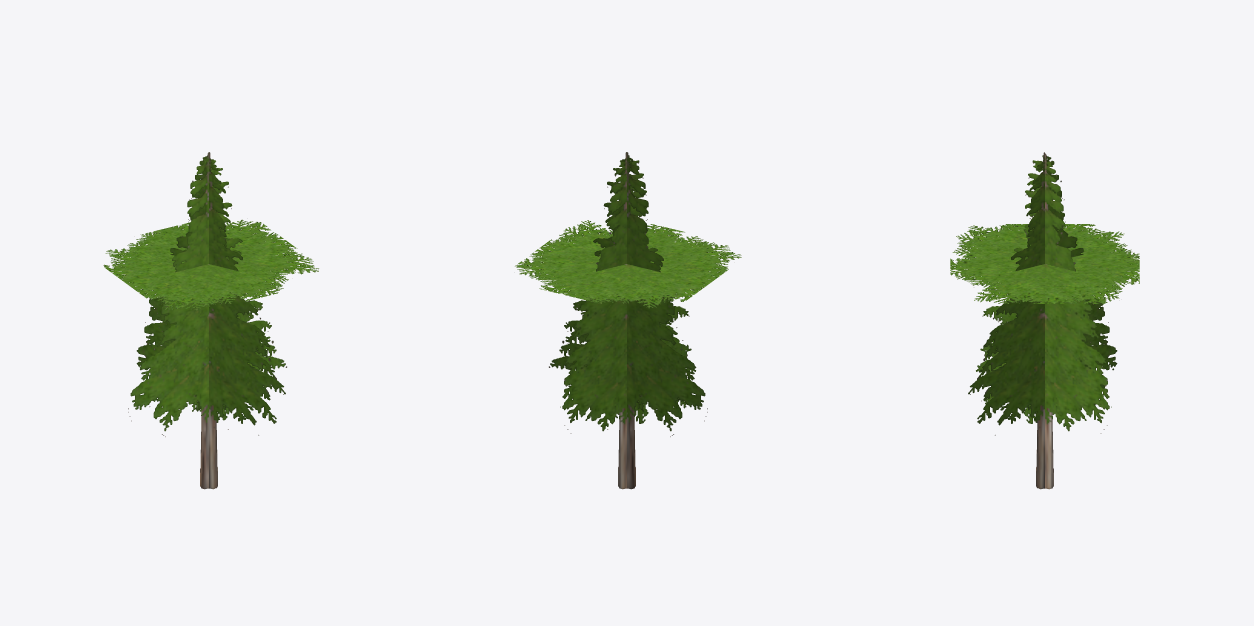
Rendered from tree_conifer_01_far.glb.
The picture shows the model from 3 angles, left to right: view 1: azimuth 30°, elevation 25°; view 2: azimuth 150°, elevation 25°; view 3: azimuth 270°, elevation 25°; orthographic projection.
Parts seen in each view (by area): view 1: env; view 2: env; view 3: env.
Part boxes in pixels (box(x1,y1,x2,y2)): env: box(103, 152, 318, 489); env: box(515, 152, 741, 489); env: box(950, 152, 1139, 489).
Size of the model in its own units: 4.77 by 4.77 by 4.13.
Materials: 1 (1 with a texture image).
